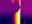Hotspot: (15, 10, 20, 23)
